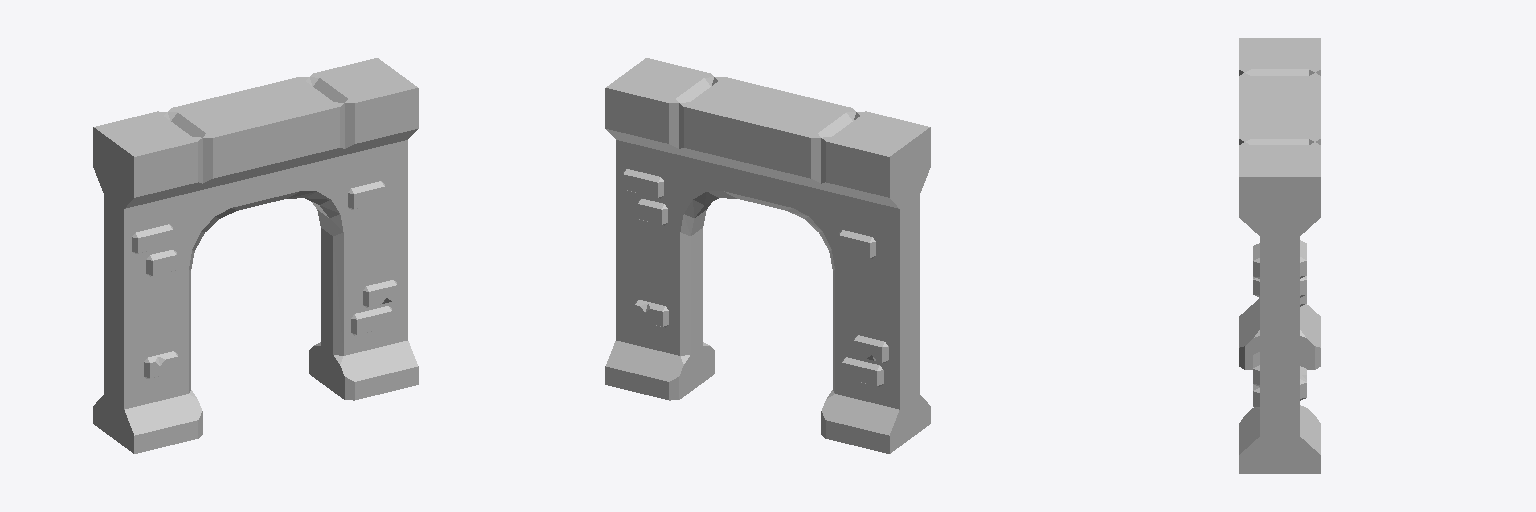
Rendered from wall_doorway.obj.
The picture shows the model from 3 angles: view 1: azimuth 30°, elevation 25°; view 2: azimuth 150°, elevation 25°; view 3: azimuth 270°, elevation 25°; orthographic projection.
Parts seen in each view (by area): view 1: wall_doorway_Cube.13132; view 2: wall_doorway_Cube.13132; view 3: wall_doorway_Cube.13132.
Part boxes in pixels (x1,y1,x2,y2): wall_doorway_Cube.13132: (93,58,418,453); wall_doorway_Cube.13132: (605,58,930,453); wall_doorway_Cube.13132: (1239,38,1320,473).
Size of the model in its own units: 4 by 4 by 1.